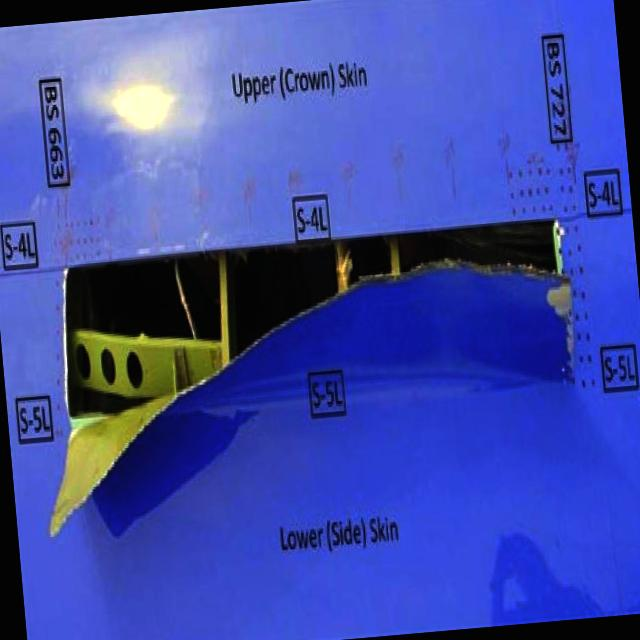crack: (21, 212, 588, 548)
